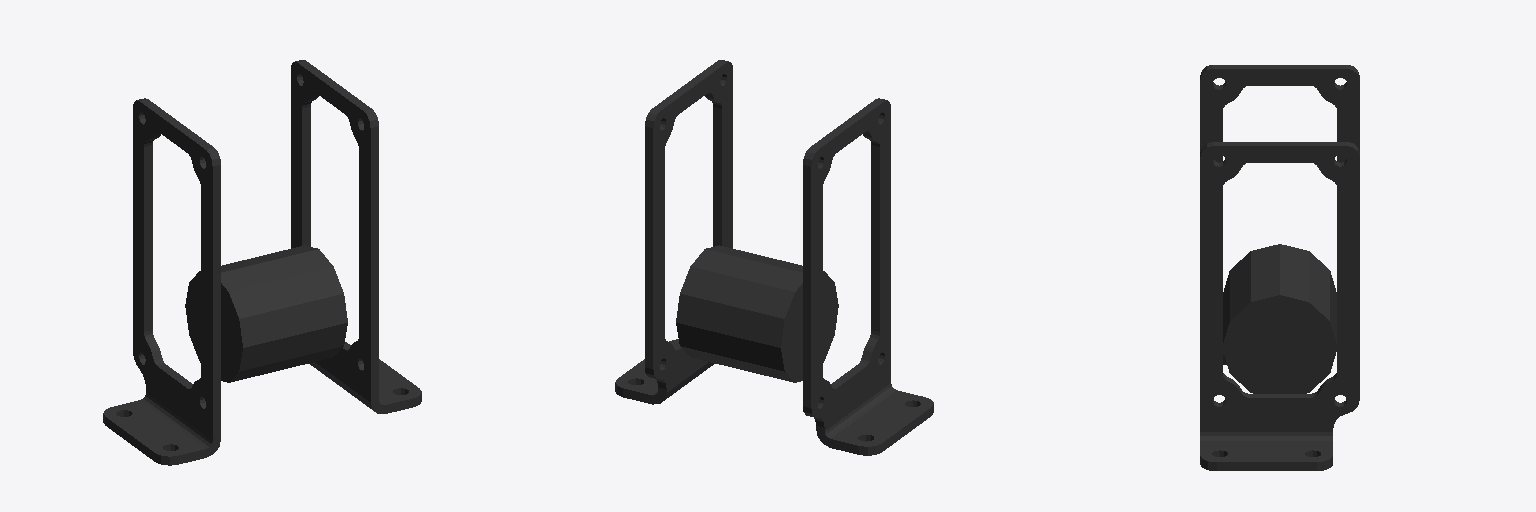
The model's file is Robot_Football_Player_SKS_2501_Head_B0348_Head_Base_06v1_1_mesh_8.obj.
The picture shows the model from 3 angles: view 1: azimuth 30°, elevation 25°; view 2: azimuth 150°, elevation 25°; view 3: azimuth 270°, elevation 25°; orthographic projection.
Size of the model in its own units: 0.0459 by 0.05 by 0.024.